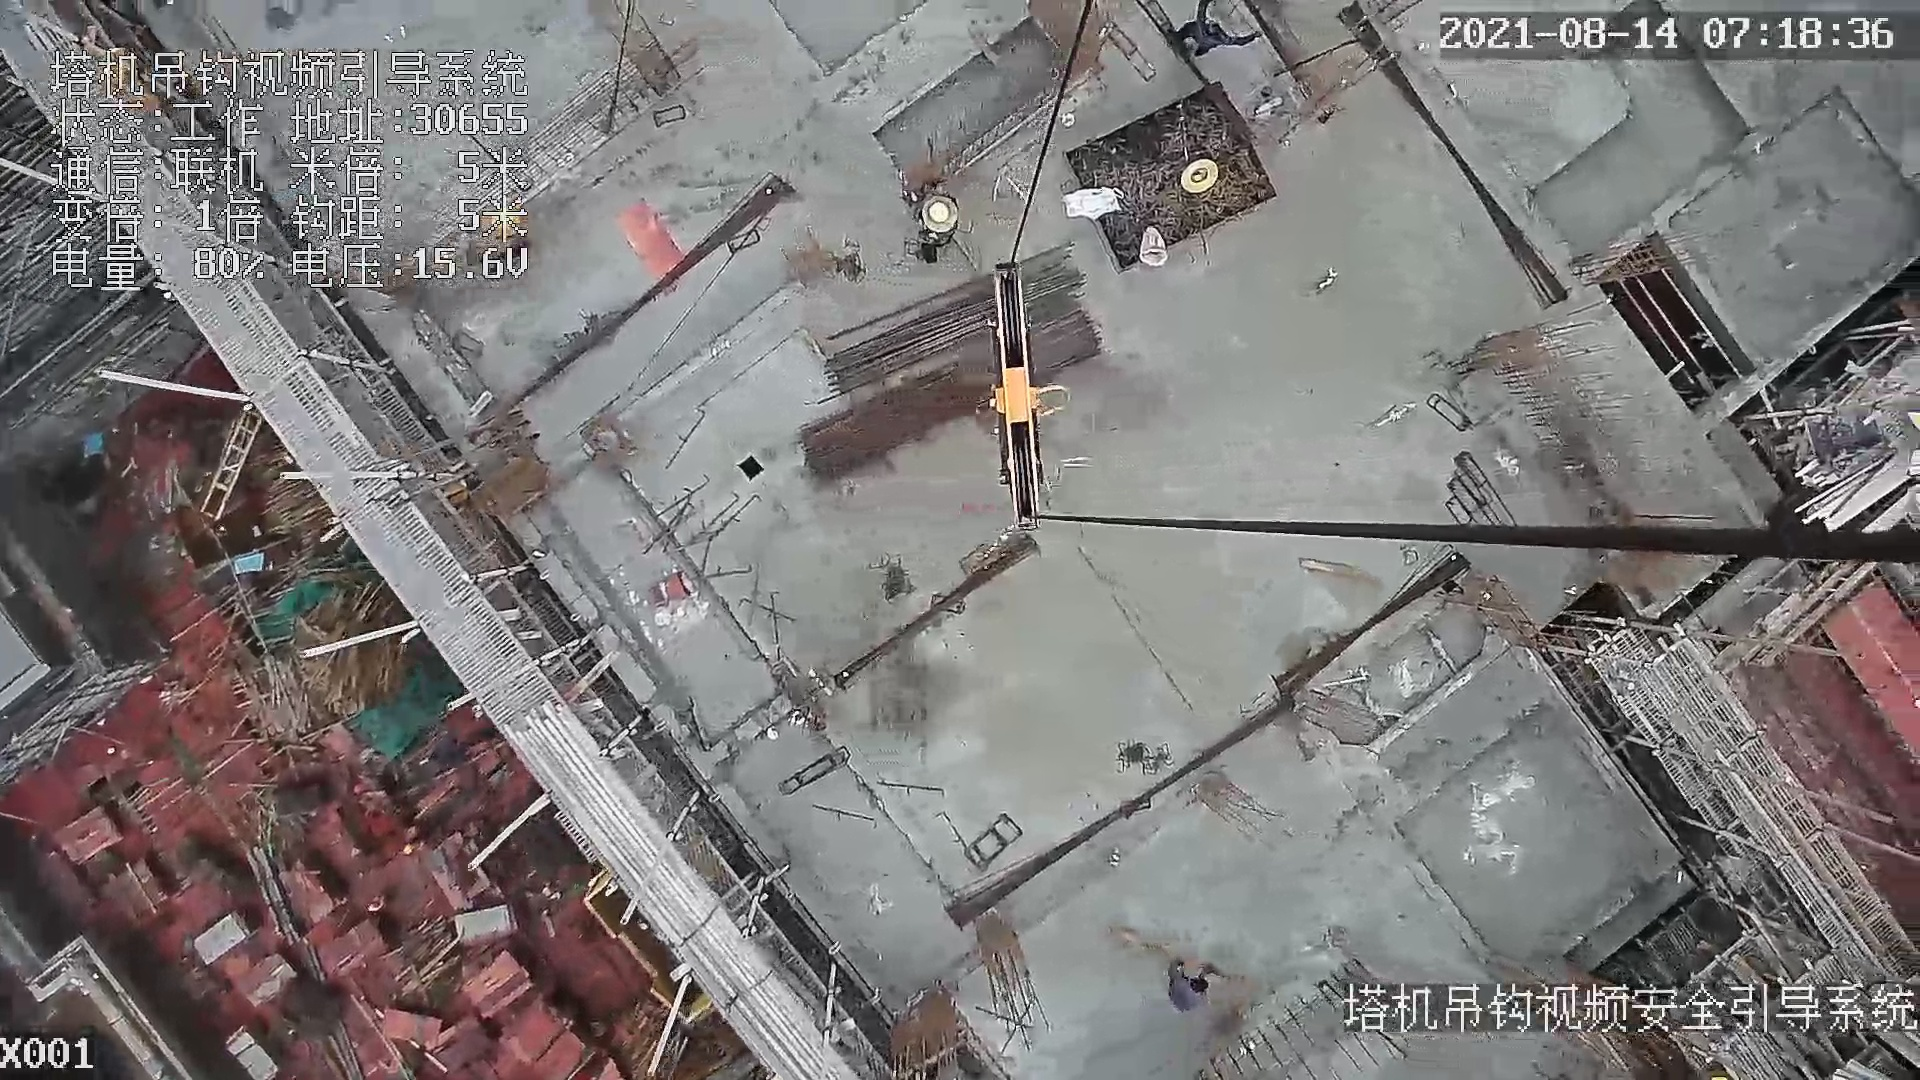helmet: (928, 197, 955, 224)
hook: (970, 254, 1074, 533)
person: (918, 194, 960, 259), (1163, 965, 1213, 1009)
